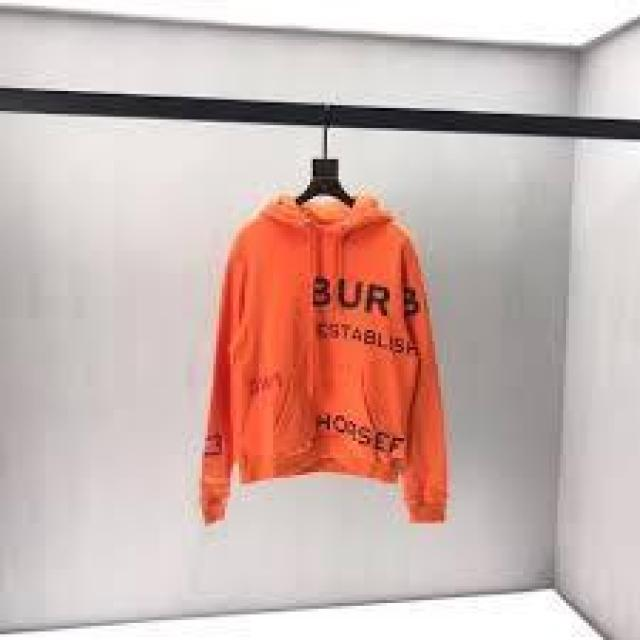sweater: (196, 180, 478, 530)
